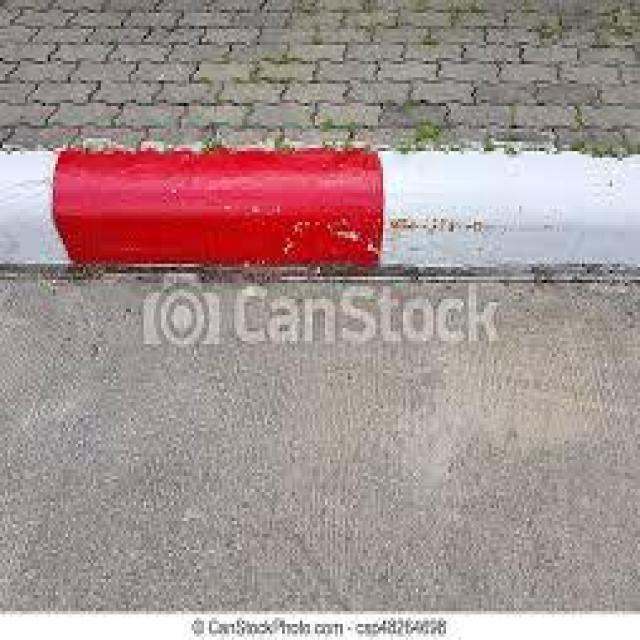curb: (1, 153, 640, 275)
